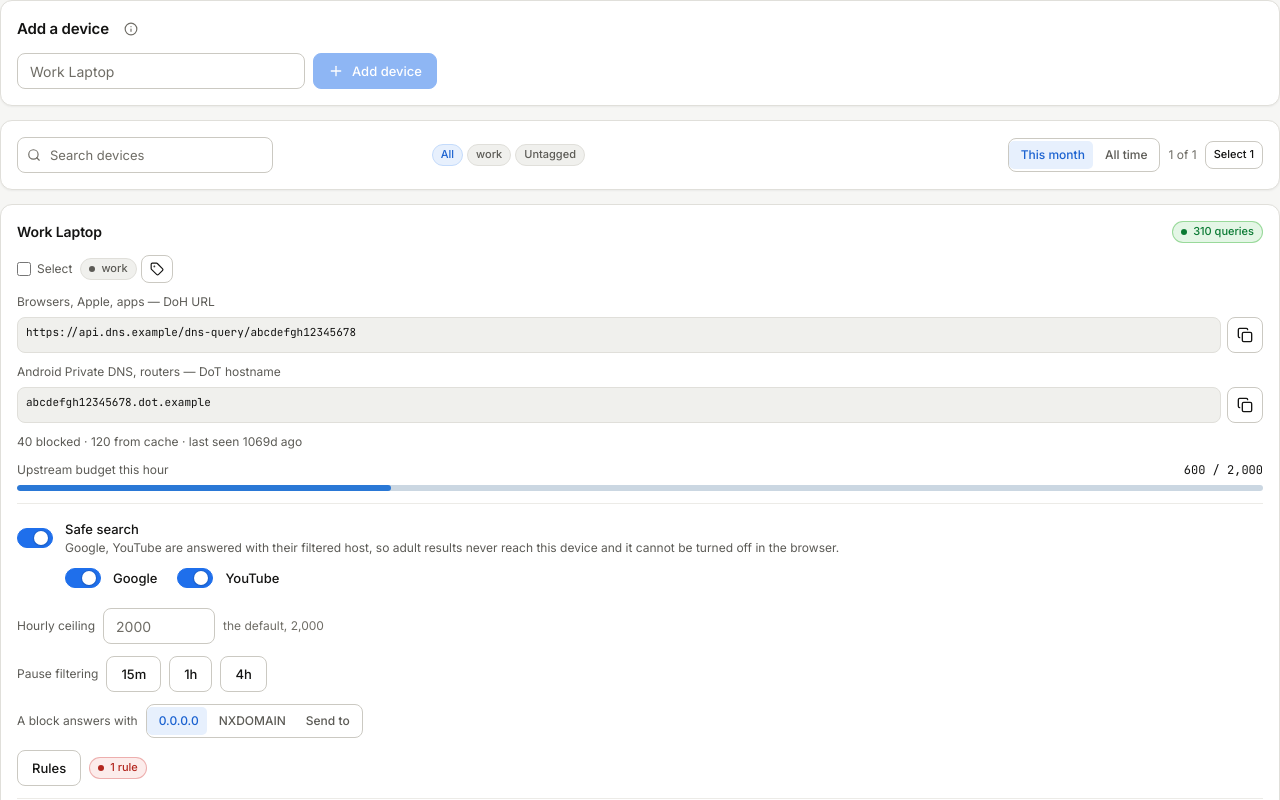
Test case: Devices › badges each card with this month's queries and switches every card at once
This screenshot has width=1280, height=800.
Check: the text "310 queries" is shown, box [1193, 224, 1254, 240]
Check: the text "40 blocked · 120 from cache · last seen 1069d ago" is shown, box [17, 434, 302, 449]
What coordinates should you click on to do the following:
click the radio button labelled "All time"
I would click on:
 (1126, 155)
Its box is [1095, 141, 1158, 169].
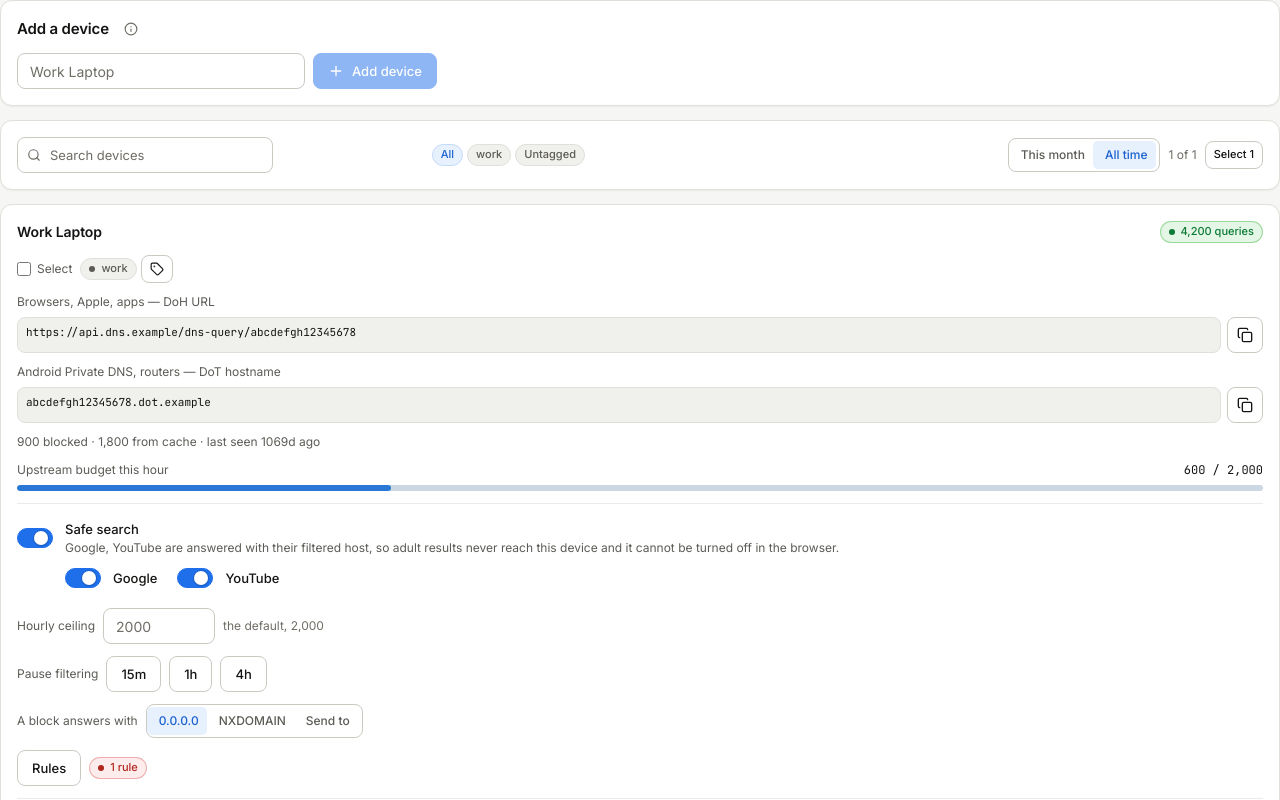
Check: the text "4,200 queries" is shown, box [1180, 224, 1254, 240]
Check: the text "900 blocked · 1,800 from cache · last seen 1069d ago" is shown, box [17, 434, 320, 449]
